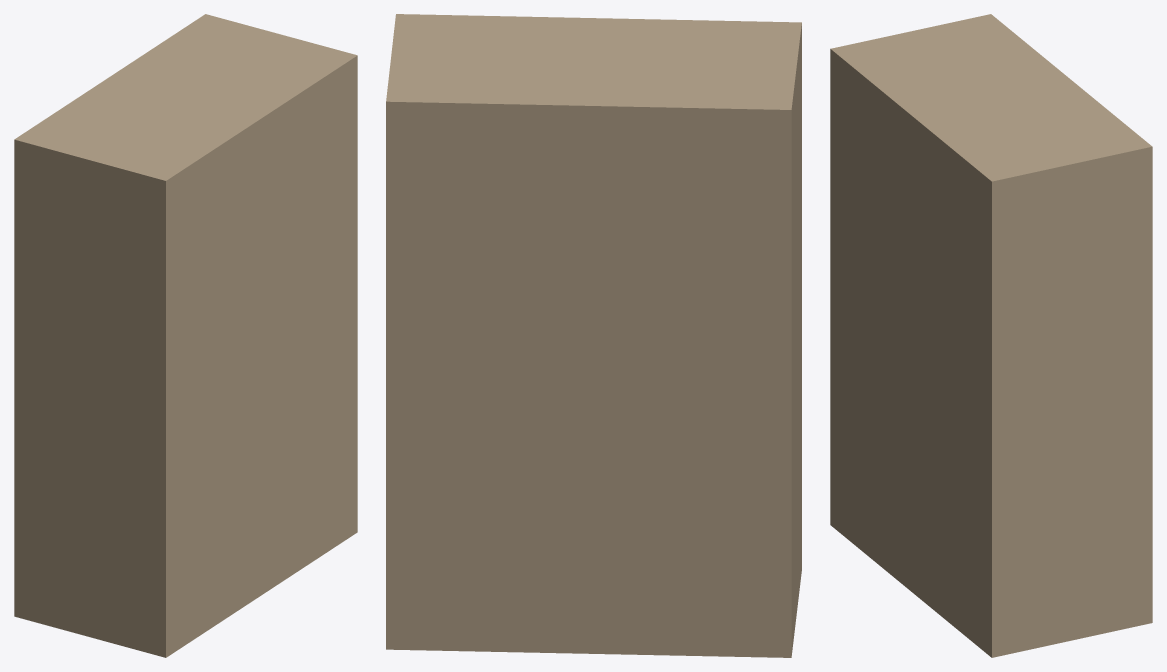
Rendered from bld_107610540.dae.
The picture shows the model from 3 angles, left to right: view 1: azimuth 30°, elevation 25°; view 2: azimuth 150°, elevation 25°; view 3: azimuth 270°, elevation 25°; orthographic projection. The views are drawn at different scales.
Parts seen in each view (by area): view 1: bld_107610540; view 2: bld_107610540; view 3: bld_107610540.
Part boxes in pixels (<box>): bld_107610540: <box>14,14,357,657</box>; bld_107610540: <box>386,14,801,657</box>; bld_107610540: <box>830,14,1152,657</box>.
Bounding box in the file's own units: 6.04 × 4.9 × 8.
